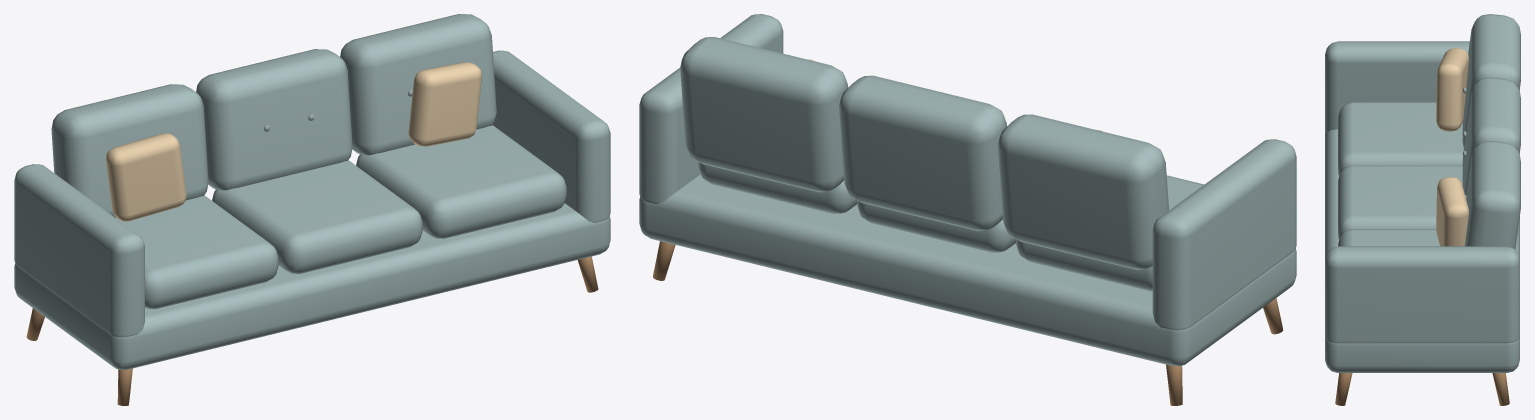
The model's file is atelier-three-seat-sofa.glb.
The picture shows the model from 3 angles, left to right: view 1: azimuth 30°, elevation 25°; view 2: azimuth 150°, elevation 25°; view 3: azimuth 270°, elevation 25°; orthographic projection. The views are drawn at different scales.
Visible parts, largest first — view 1: fabric.002, accent.002, legs.002; view 2: fabric.002, legs.002; view 3: fabric.002, accent.002, legs.002.
Boxes of the visible parts, bbox=[...] form: fabric.002: bbox=[14, 14, 610, 369]; accent.002: bbox=[106, 62, 481, 221]; legs.002: bbox=[26, 256, 598, 405]; fabric.002: bbox=[639, 14, 1296, 366]; legs.002: bbox=[653, 241, 1283, 405]; fabric.002: bbox=[1325, 14, 1520, 372]; accent.002: bbox=[1436, 48, 1468, 246]; legs.002: bbox=[1335, 373, 1509, 405].
Bounding box in the file's own units: 2.4 × 1.02 × 0.9046.
